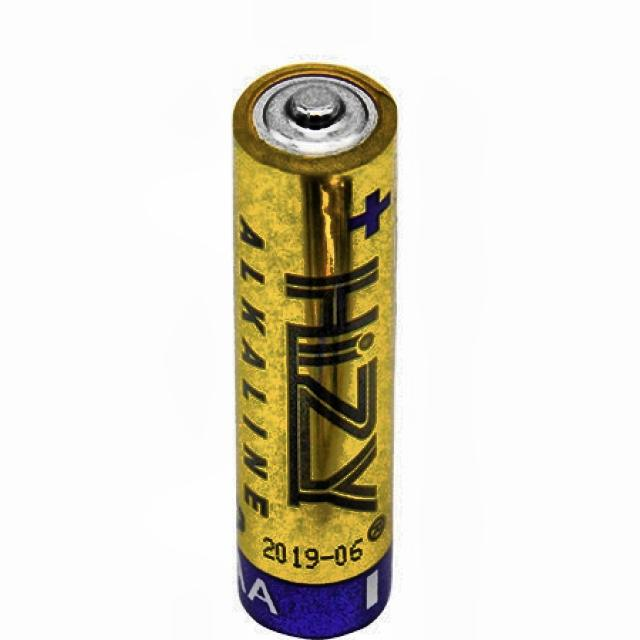Non-Valuable Waste - Batteries: (234, 63, 396, 638)
